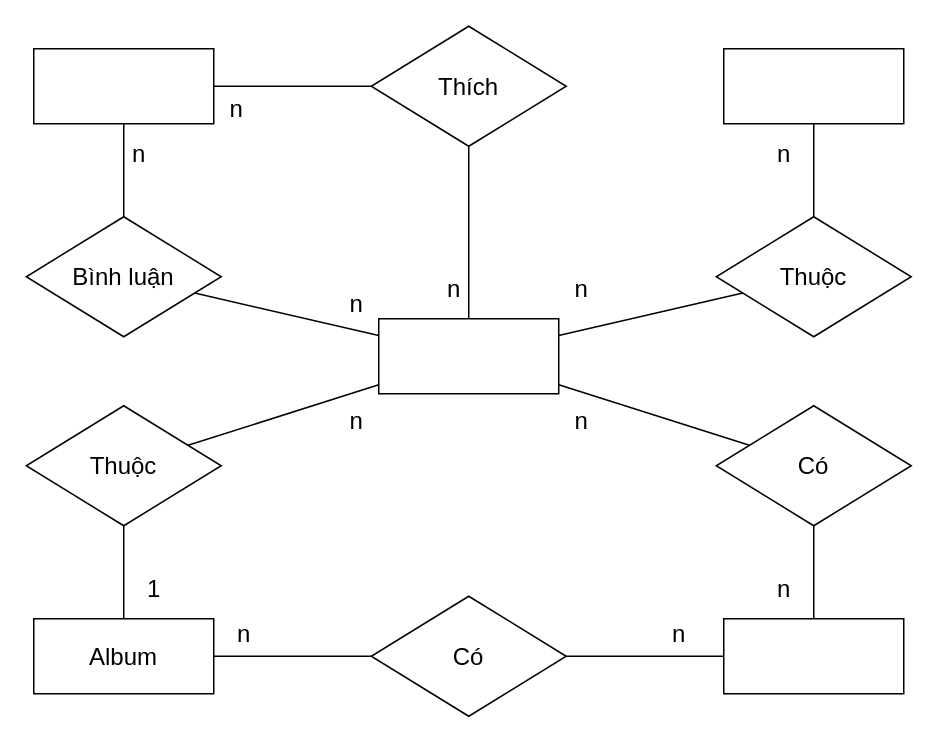
Some shapes in this 938 by 743 pixel diagram are drawn without their labels. The centre of each missing label's shape, as x and y in pixels:
"Category" belongs at (x=813, y=85).
"Singer" belongs at (x=813, y=655).
"Song" belongs at (x=468, y=355).
"User" belongs at (x=123, y=85).
